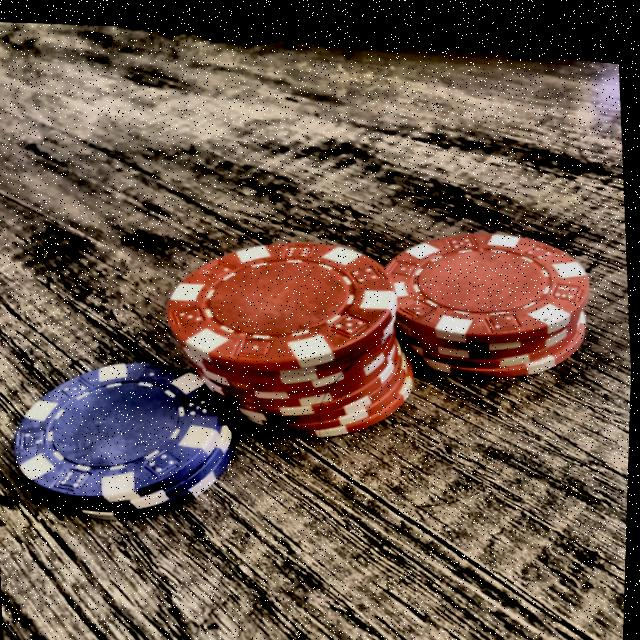Chip: (160, 215, 422, 450), (7, 341, 245, 536), (375, 205, 599, 383)
